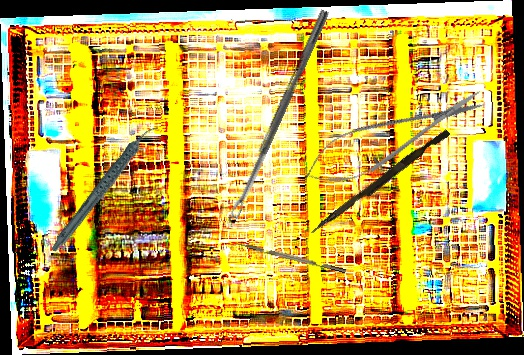Chopper: (229, 238, 347, 280)
Handpiece: (30, 123, 180, 254)
Micro Scissor: (295, 75, 493, 199)
Pusher: (309, 125, 451, 240)
Surgical Spoon: (228, 8, 330, 220)
